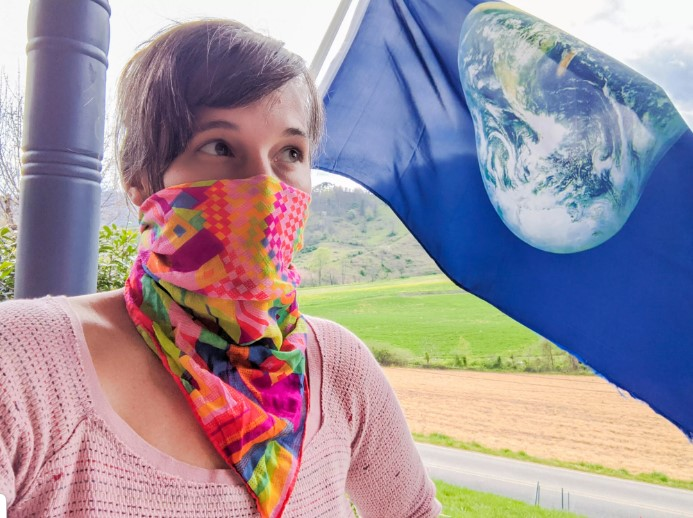face_with_mask: (124, 35, 318, 311)
